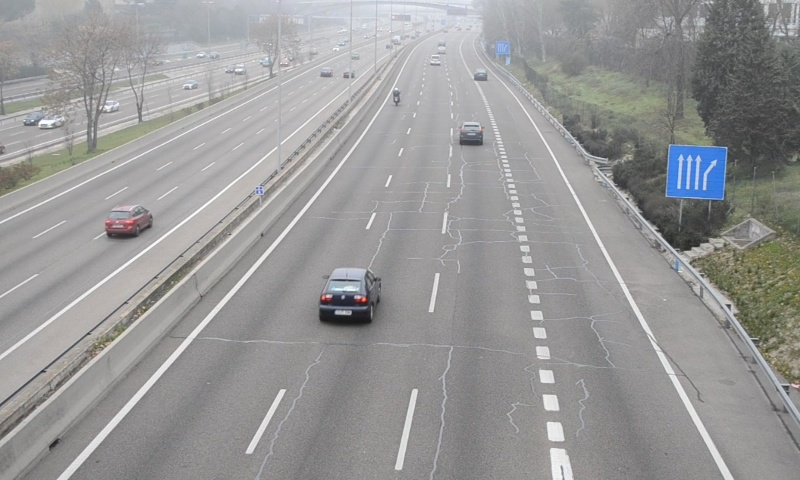car: (319, 267, 382, 324), (458, 122, 484, 146), (473, 68, 487, 80)
motorcycle: (391, 88, 400, 109)
